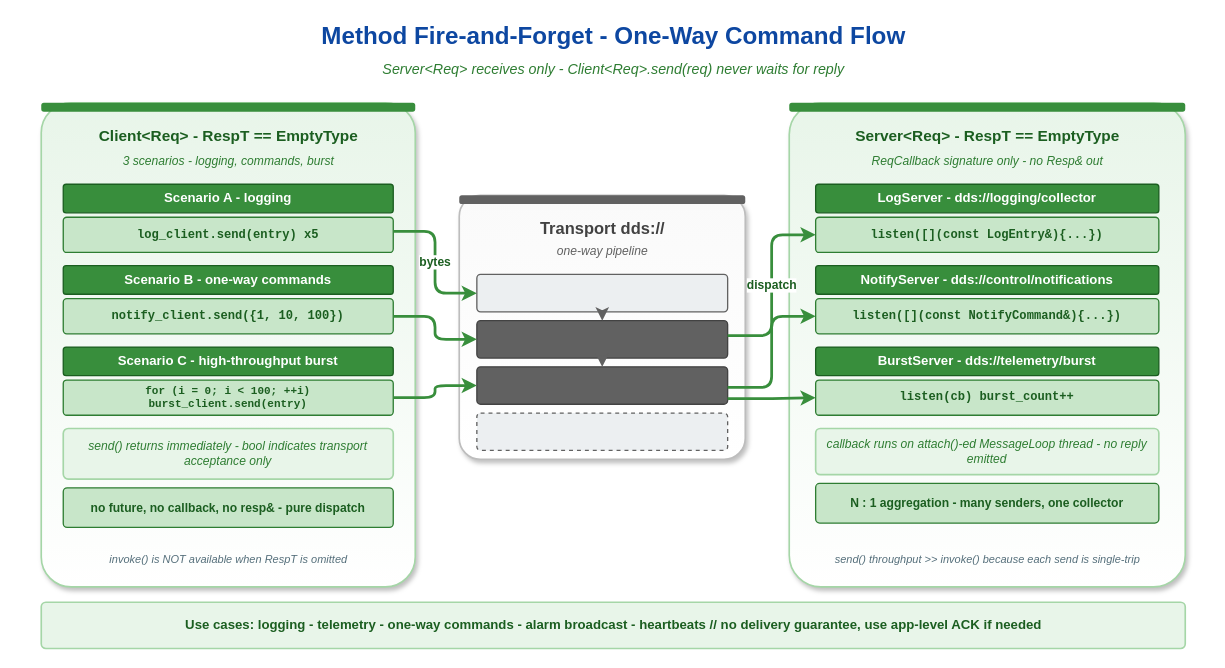
Image size: 1225x668. Some labels were removed from this diagram. Each missing label, with the centre of its shape:
"deliver - no reply channel" goes at (x=602, y=385).
"enqueue - return" goes at (x=602, y=338).
"no req_id roundtrip" goes at (x=602, y=431).
"serialize Req" goes at (x=602, y=292).
